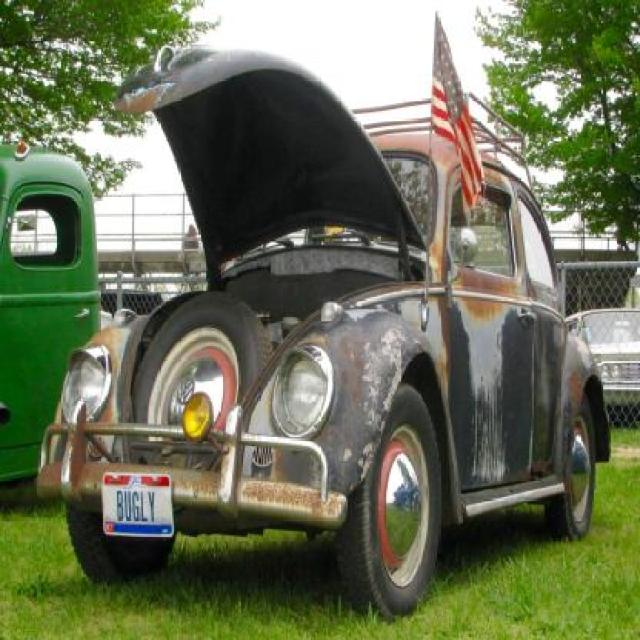corrosion: (40, 46, 612, 596)
